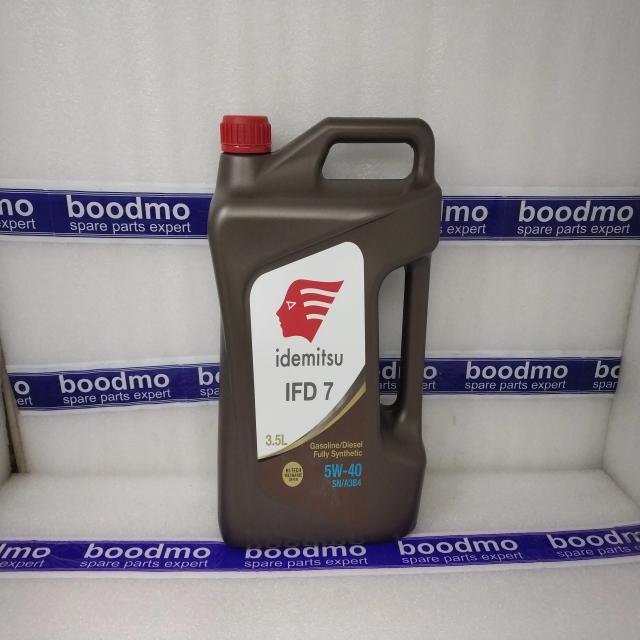motor_oil: (191, 104, 450, 562)
